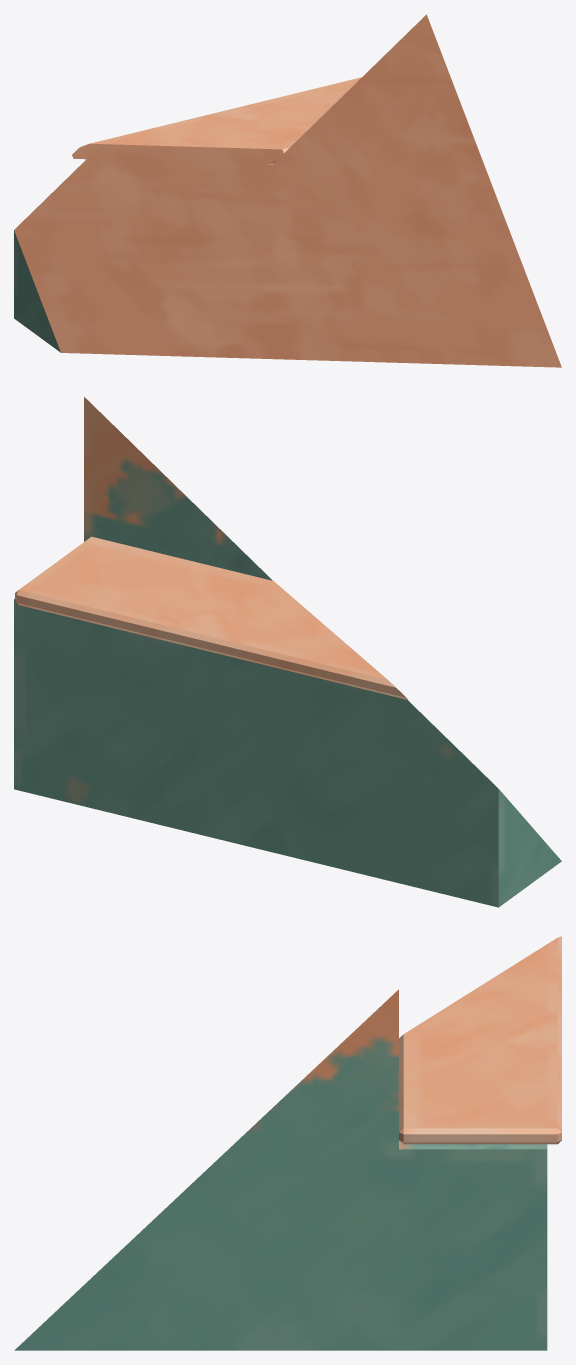
The model's file is stairs_narrow_s02.fbx.
3 renders of one model, top to bottom at view 1: azimuth 30°, elevation 25°; view 2: azimuth 150°, elevation 25°; view 3: azimuth 270°, elevation 25°, orthographic. The views are drawn at different scales.
Visible parts, largest first — view 1: stairs_narrow_s02; view 2: stairs_narrow_s02; view 3: stairs_narrow_s02.
Boxes of the visible parts, <box> form: stairs_narrow_s02: <box>14,14,561,367</box>; stairs_narrow_s02: <box>14,397,561,907</box>; stairs_narrow_s02: <box>14,936,561,1350</box>.
Bounding box in the file's own units: 4 × 2.7 × 3.7.
